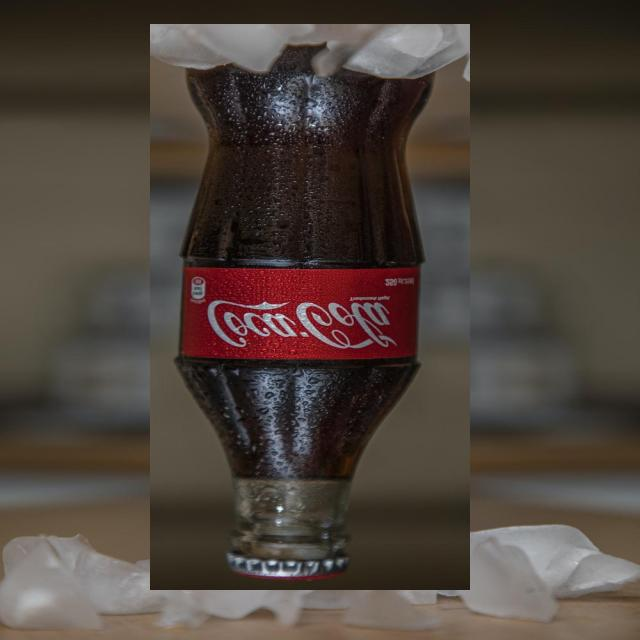coca-cola: (150, 24, 470, 590)
